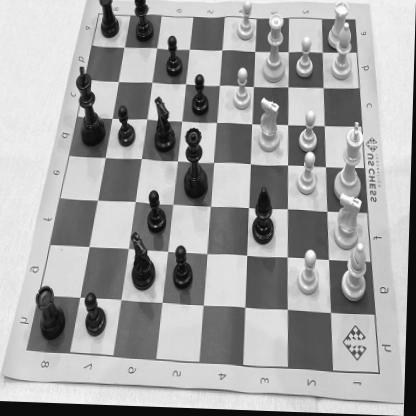black-bishop: (252, 187, 278, 250), (131, 0, 156, 46)
black-king: (74, 64, 108, 152)
black-knight: (130, 231, 158, 296), (152, 96, 178, 156)
black-pawn: (84, 291, 110, 342), (172, 244, 196, 292), (189, 74, 213, 121), (116, 106, 139, 153), (147, 190, 170, 236), (164, 34, 186, 80)
black-queen: (184, 126, 211, 204)
black-rook: (35, 284, 70, 344), (96, 0, 122, 43)
white-bishop: (340, 240, 372, 303), (330, 22, 357, 82)
white-king: (334, 119, 367, 204)
white-knight: (333, 192, 366, 251), (258, 99, 284, 157)
white-pawn: (295, 152, 323, 198), (298, 249, 322, 298), (298, 108, 322, 156), (294, 36, 318, 84), (231, 67, 254, 113), (235, 0, 257, 44)
white-queen: (261, 10, 289, 87)
white-rook: (328, 1, 350, 52)
